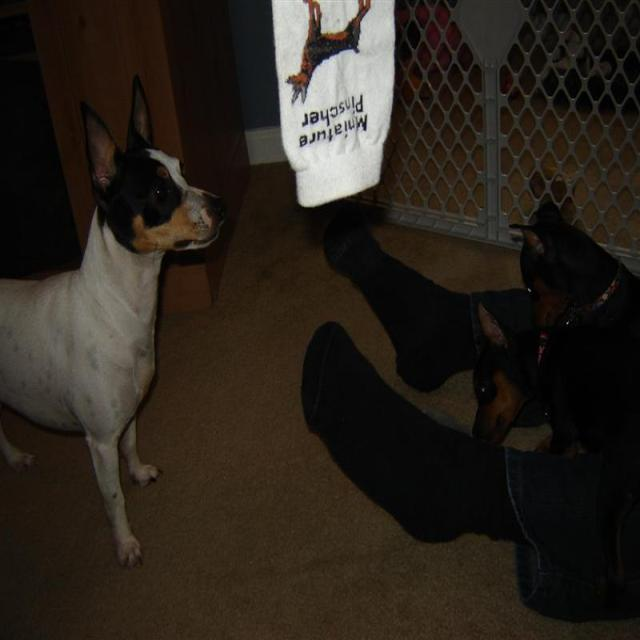Dog: (204, 181, 581, 631)
